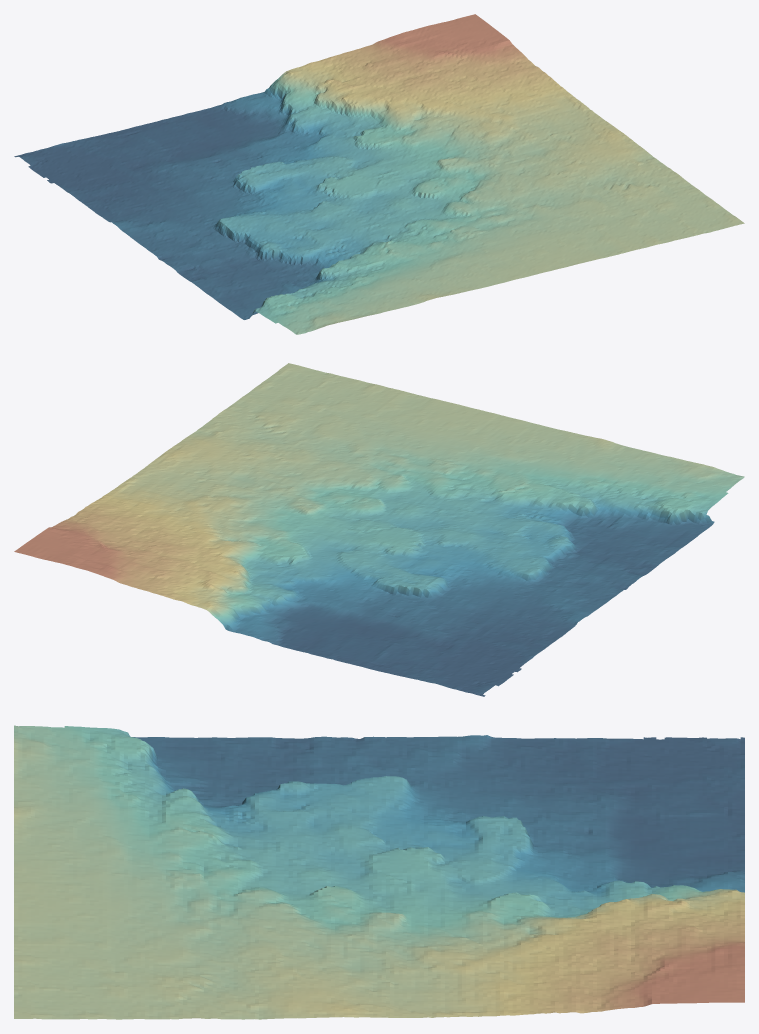
File: oma084_disp_monsterpp.glb
The picture shows the model from 3 angles, top to bottom: view 1: azimuth 30°, elevation 25°; view 2: azimuth 150°, elevation 25°; view 3: azimuth 270°, elevation 25°; orthographic projection. The views are drawn at different scales.
Visible parts, largest first — view 1: world; view 2: world; view 3: world.
Boxes of the visible parts, x1=… form: world: x1=14, y1=14, x2=744, y2=334; world: x1=14, y1=363, x2=744, y2=696; world: x1=14, y1=725, x2=744, y2=1019.
Size of the model in its own units: 342 by 21.41 by 346.
